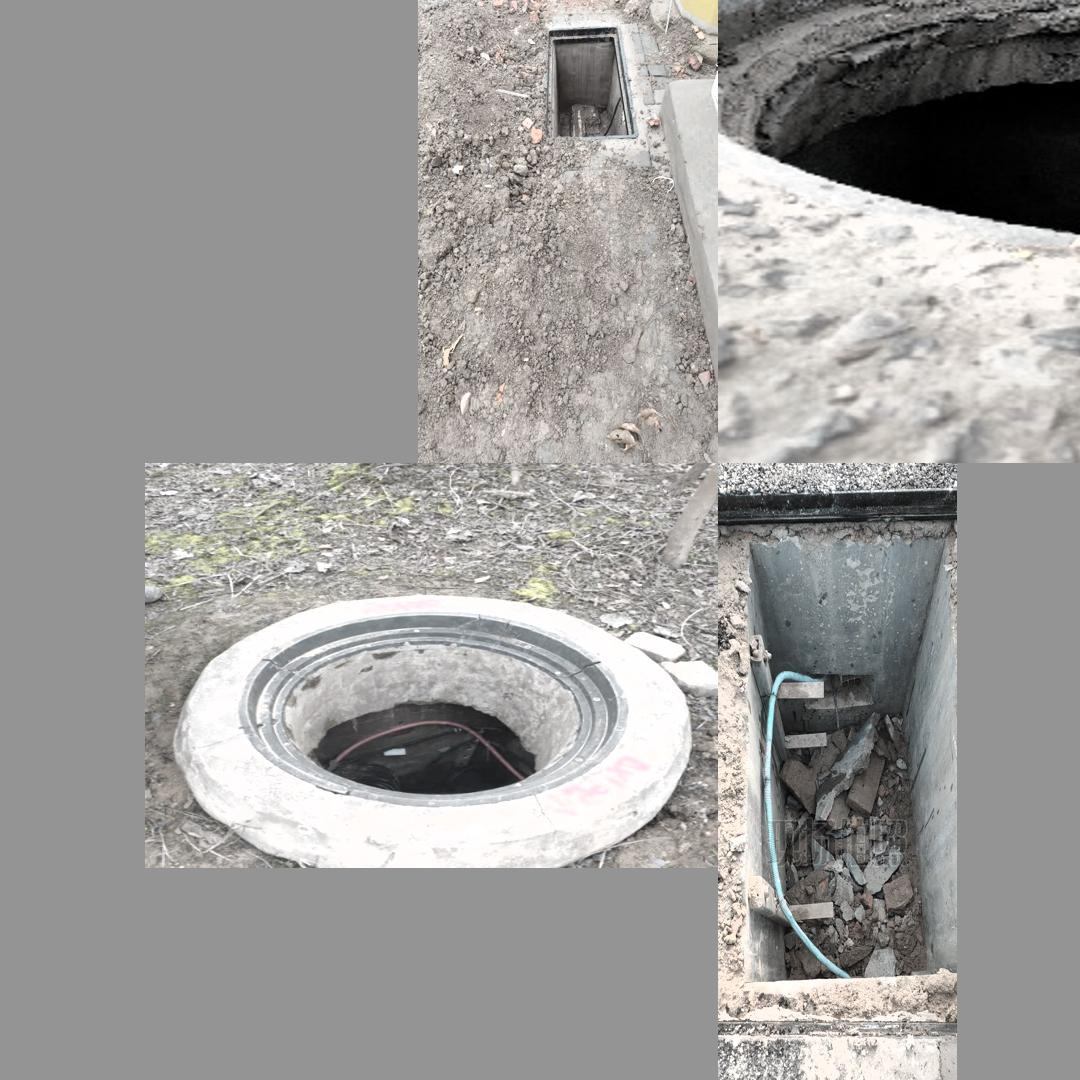lose: (722, 501, 957, 1053), (718, 0, 1080, 275), (242, 610, 627, 808), (539, 23, 639, 146)
